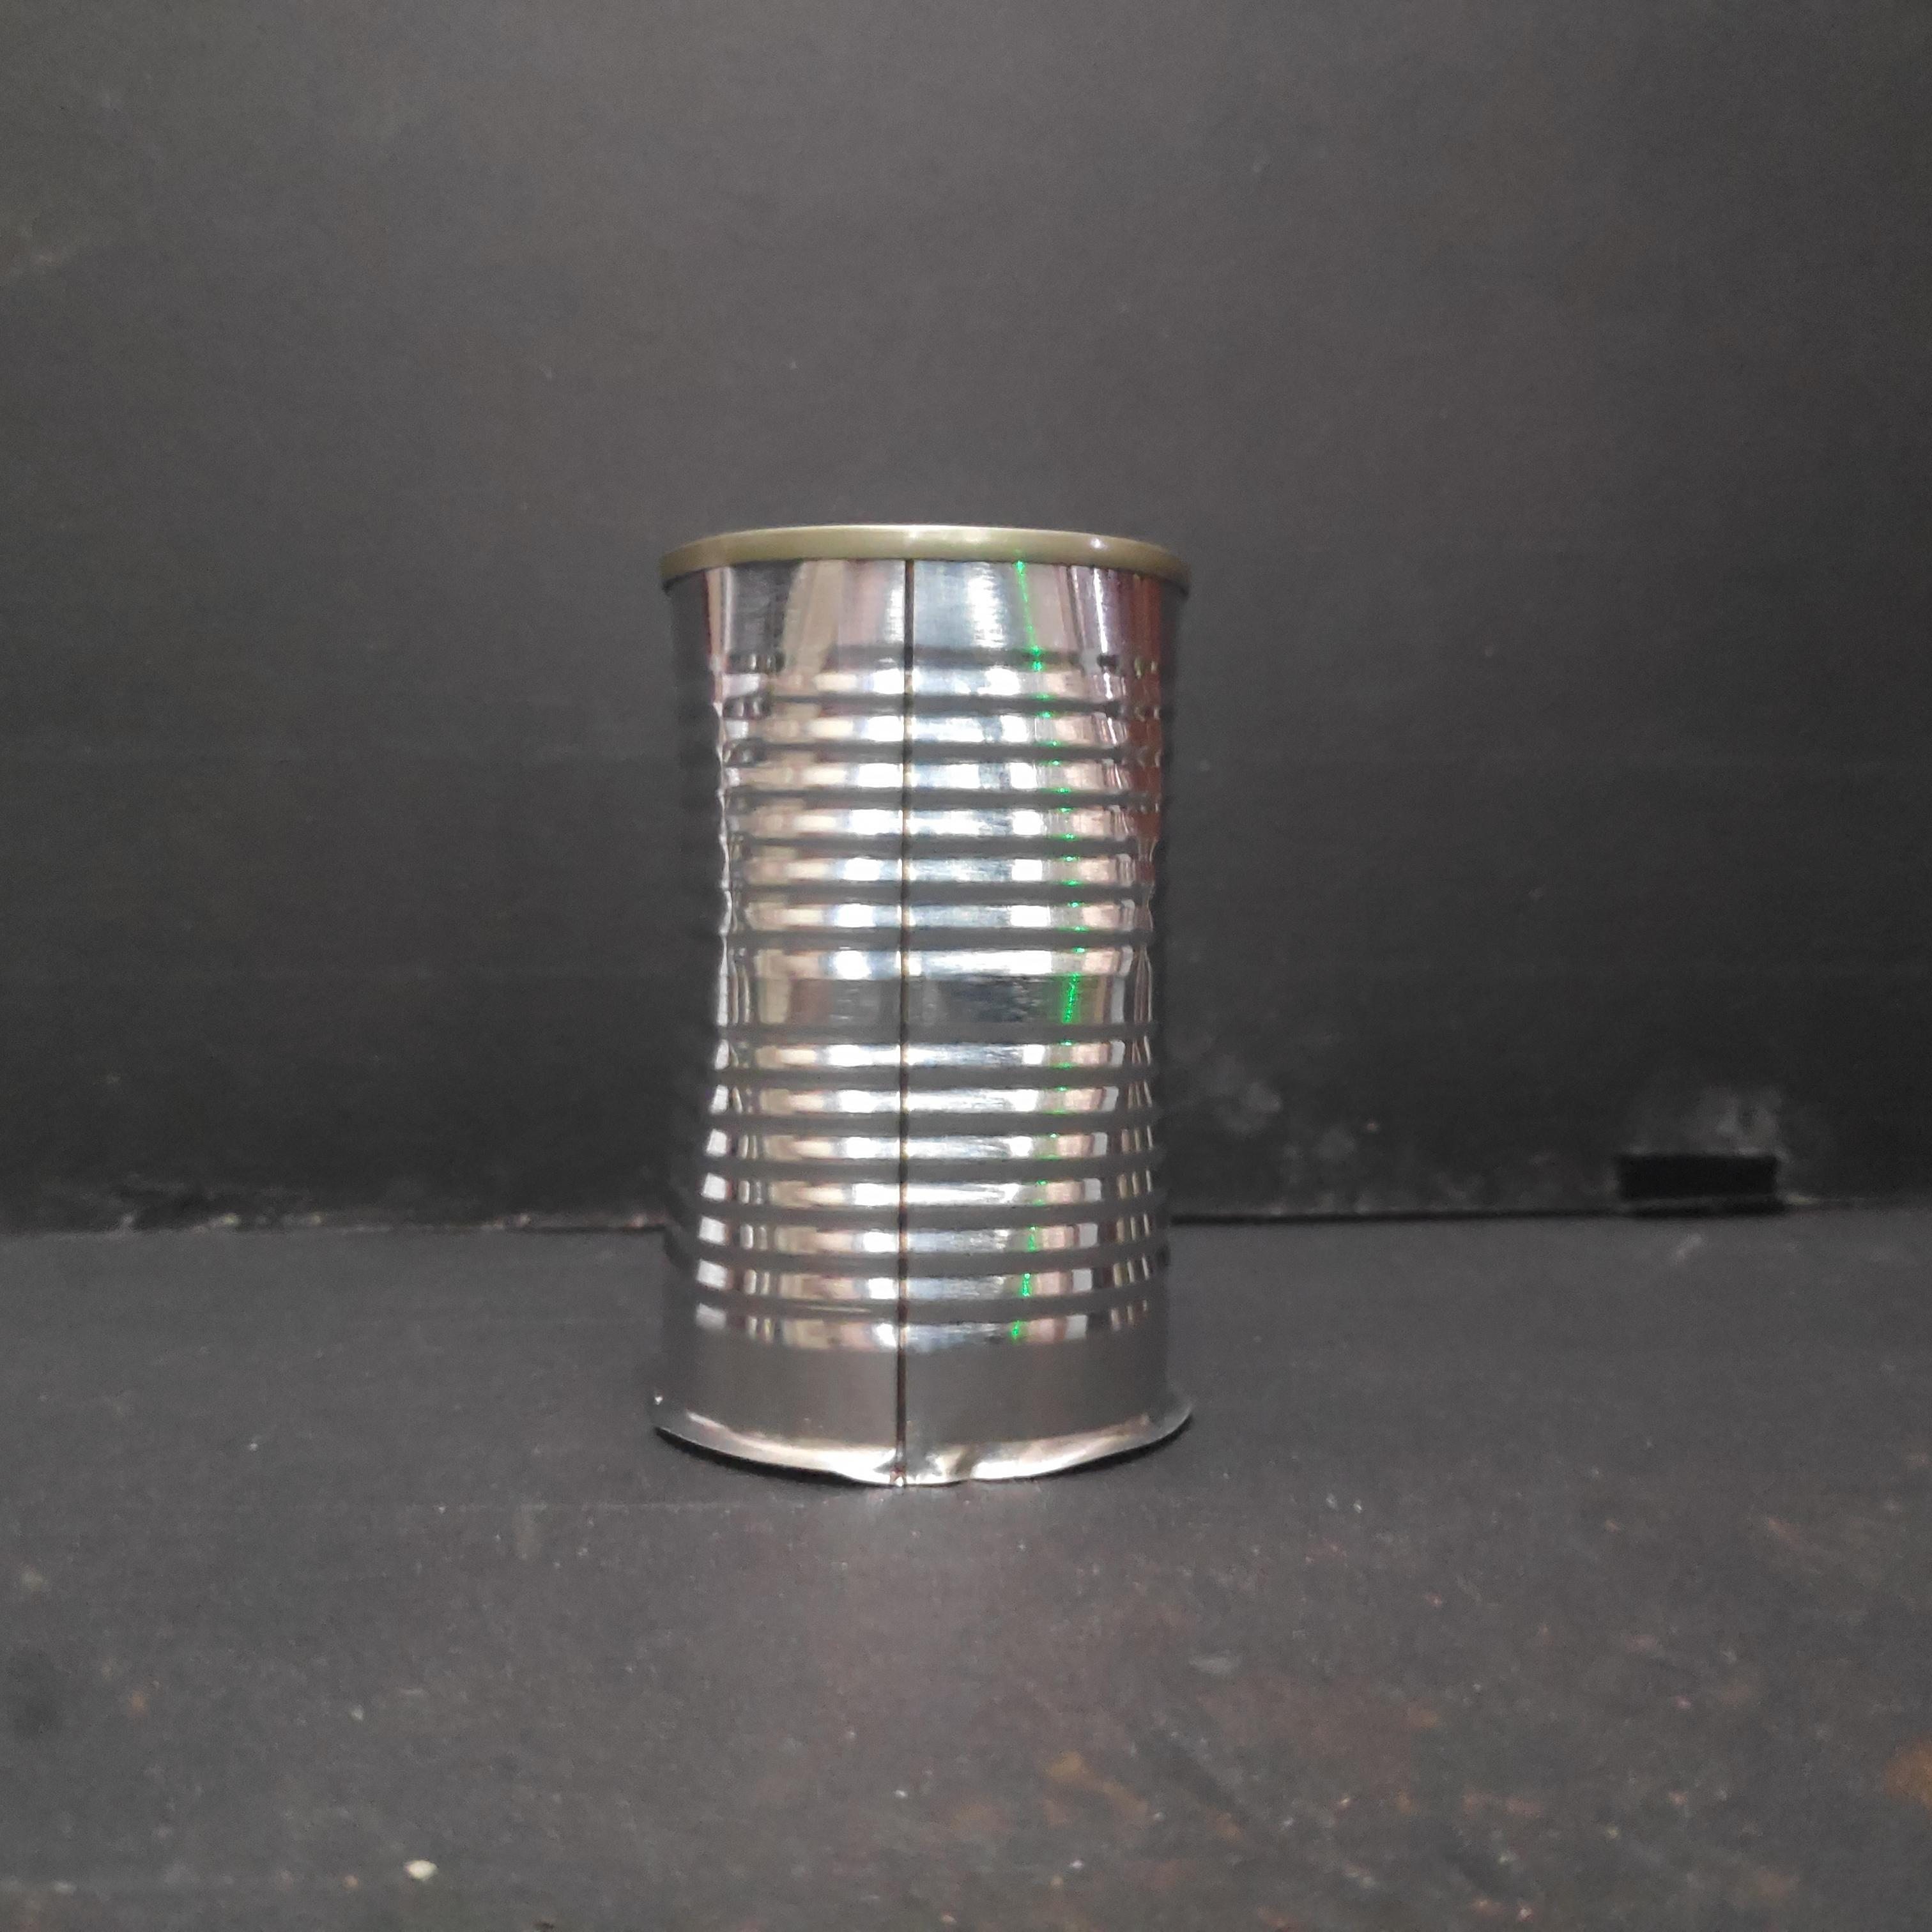Minor Defect: (653, 511, 1208, 1504)
